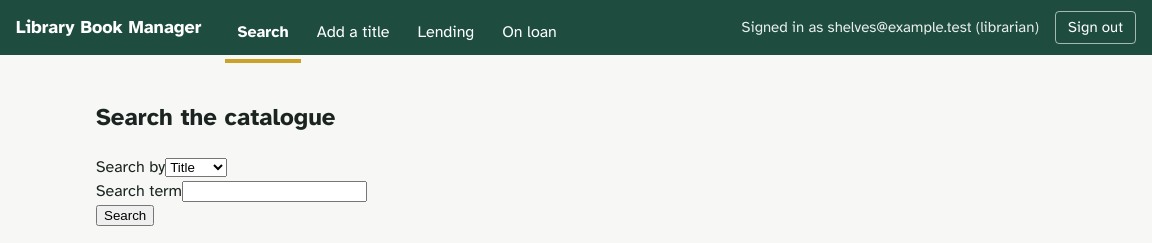
it: main menu › Q-WEB-04: choosing a menu item shows that page without reloading, and moves the current-page mark
Click the link "On loan" at (530, 32), box [502,22,557,42]
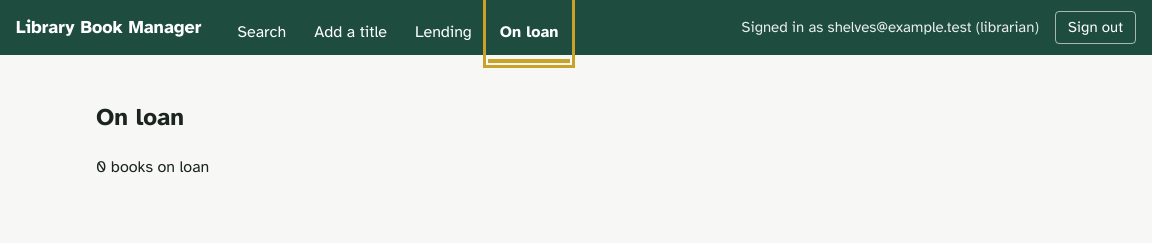
Expected: the heading "On loan" is shown, [96,102,184,132]
